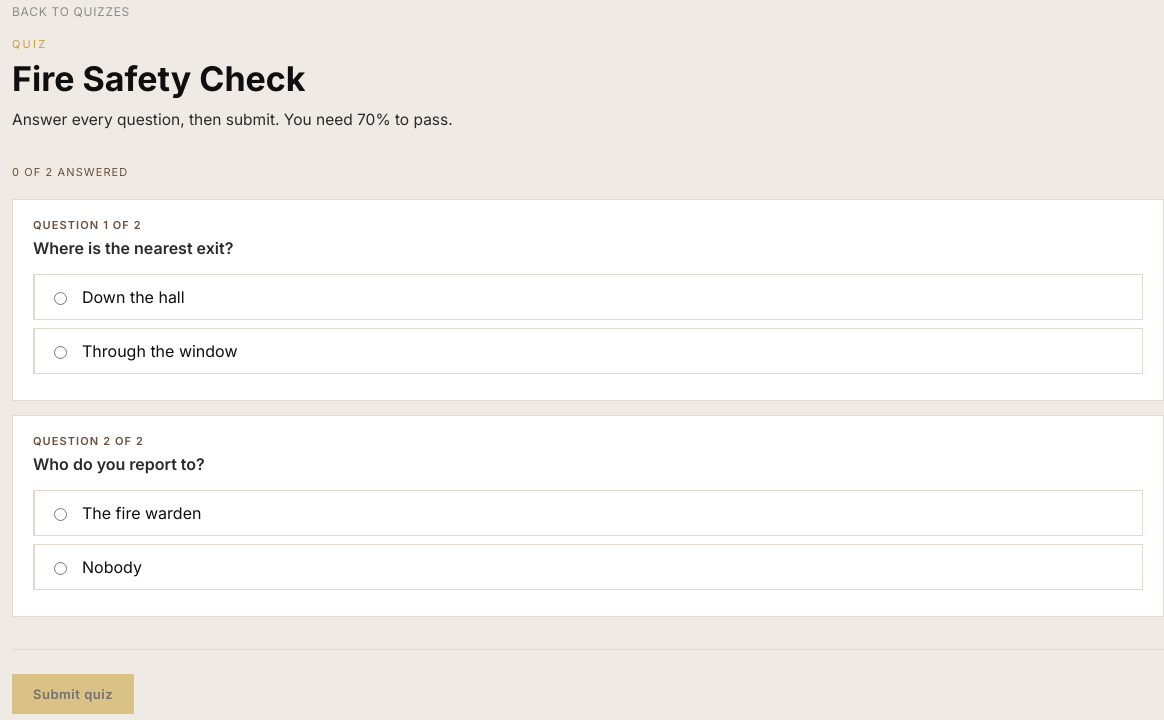
it: after submitting › failing stays put and offers a retake
Click the radio button labelled "Down the hall".
click(60, 298)  # box top-left (54, 292), bottom-right (67, 305)
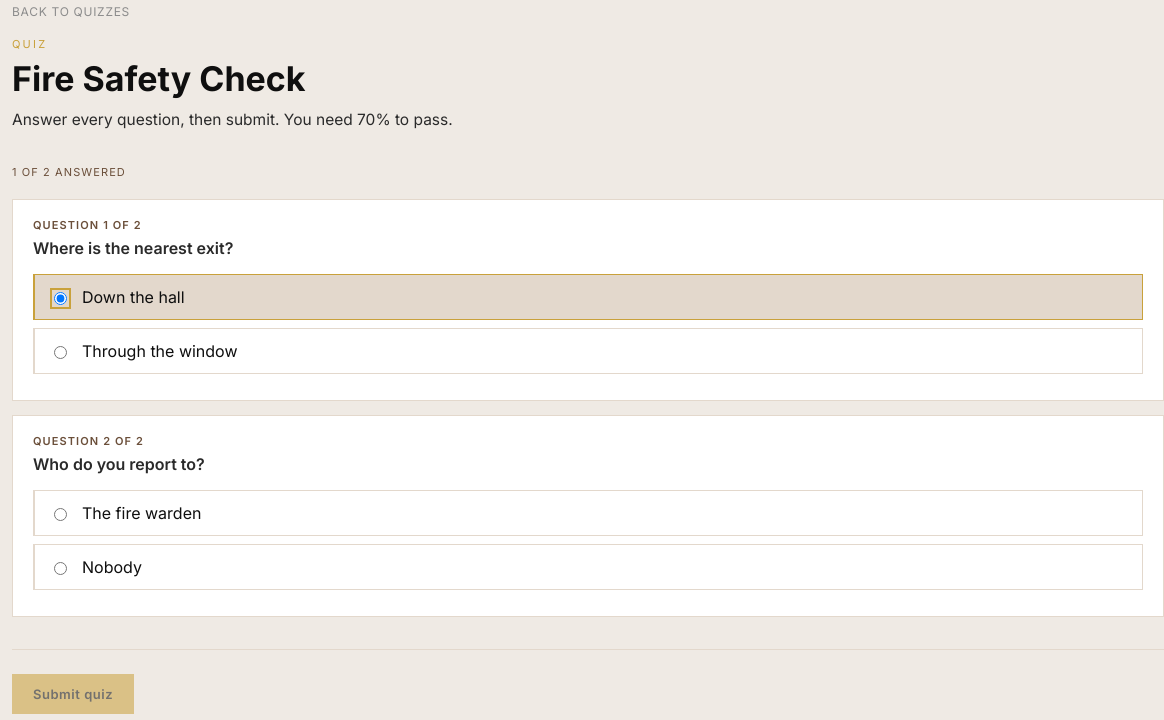
Click the radio button labelled "The fire warden".
click(60, 514)  # box top-left (54, 508), bottom-right (67, 521)
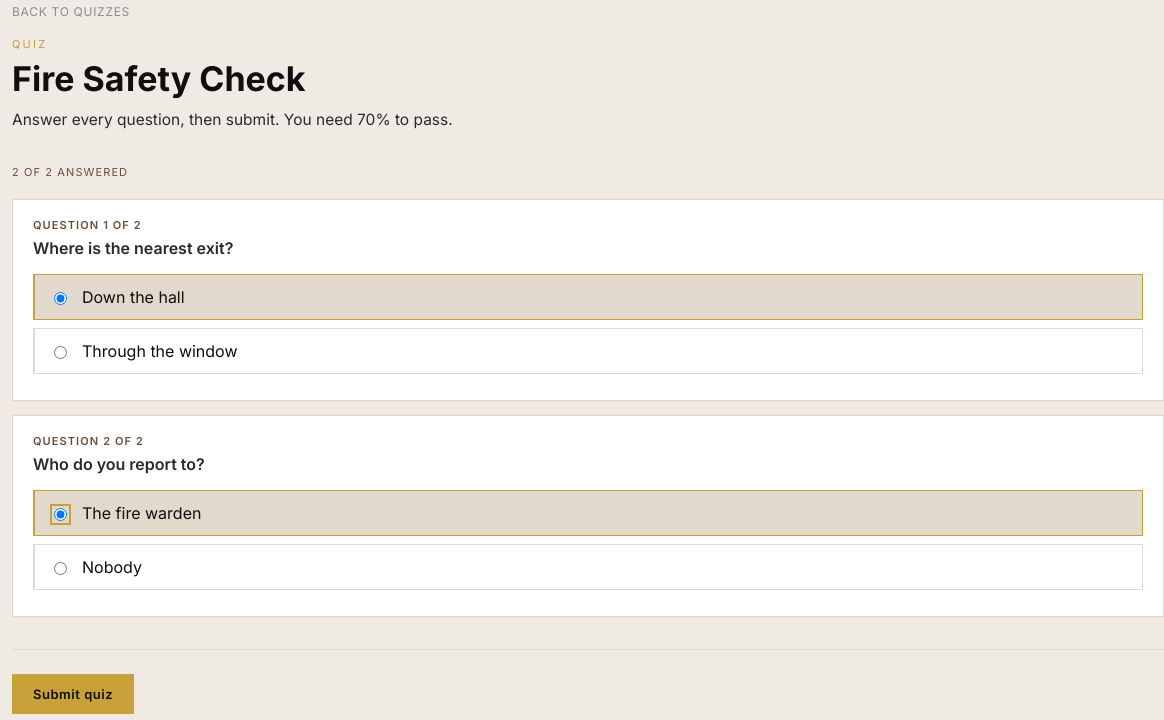
Click the button "Submit quiz".
click(73, 694)  # box top-left (12, 674), bottom-right (134, 714)
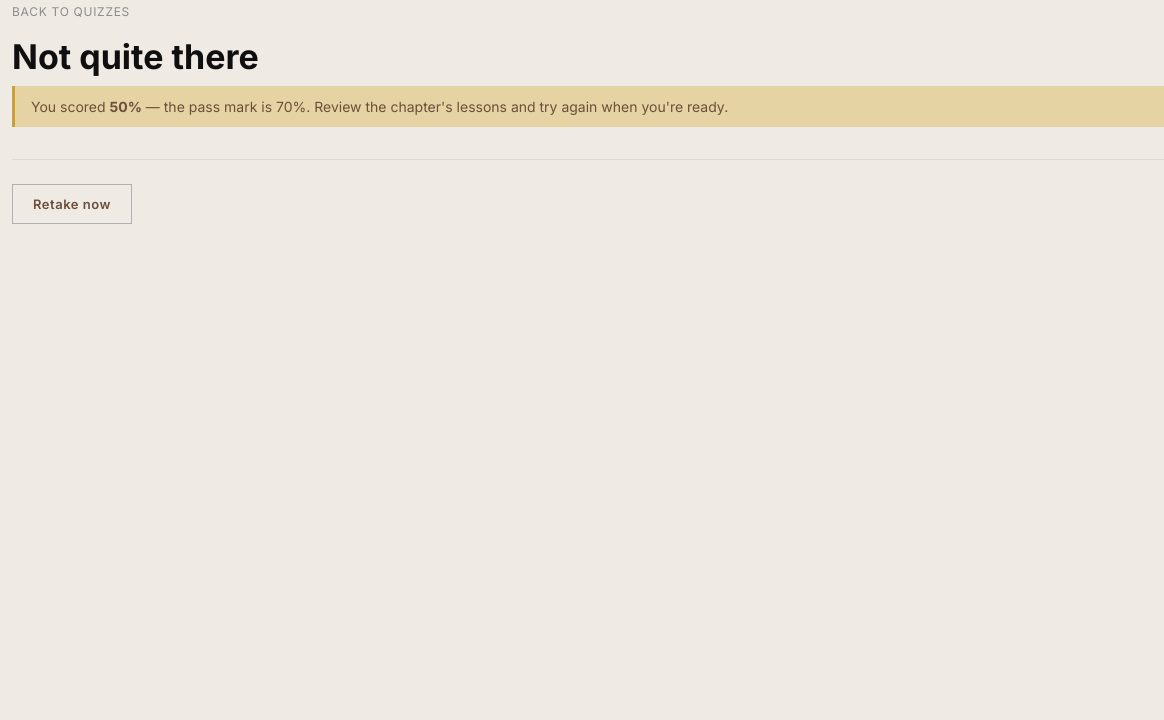
expect the heading "Not quite there" is shown: met, box top-left (12, 36), bottom-right (259, 77)
expect the text "50%" is shown: met, box top-left (110, 98), bottom-right (142, 115)
expect the button "Retake now" is shown: met, box top-left (12, 184), bottom-right (132, 224)
